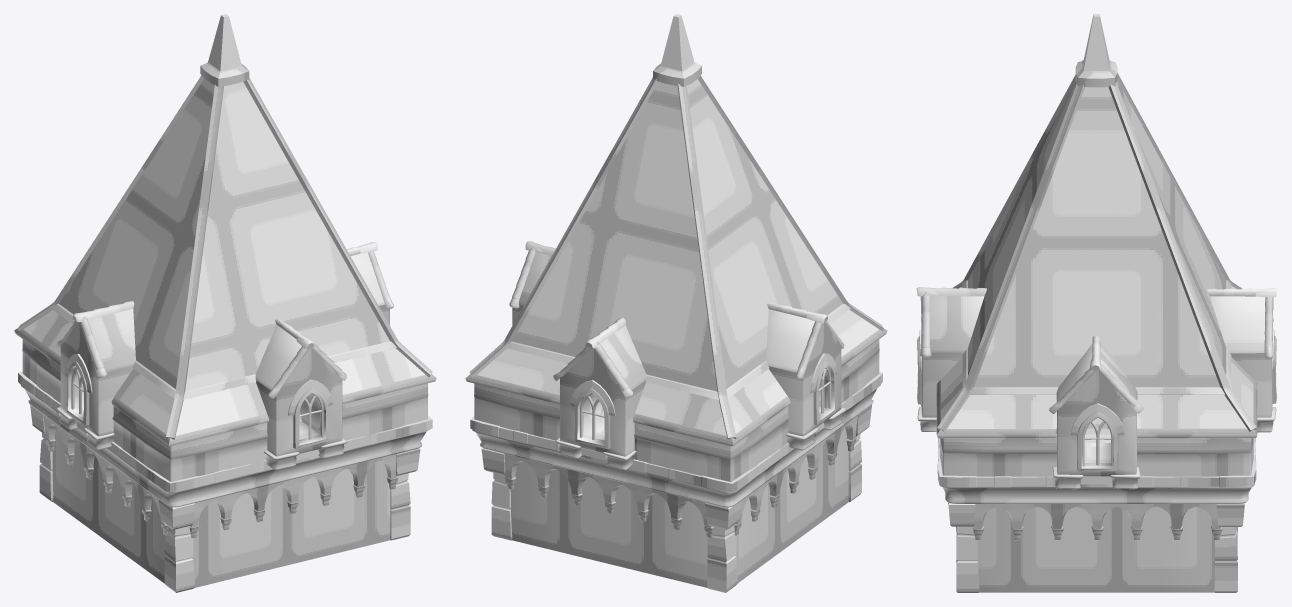
File: SM_TowerE_Top_02.fbx
3 views of the same model, side by side, from view 1: azimuth 30°, elevation 25°; view 2: azimuth 150°, elevation 25°; view 3: azimuth 270°, elevation 25° (orthographic). The views are drawn at different scales.
Visible parts, largest first — view 1: SM_TowerE_Top_02_LOD0; view 2: SM_TowerE_Top_02_LOD0; view 3: SM_TowerE_Top_02_LOD0.
Boxes of the visible parts, x1=… form: SM_TowerE_Top_02_LOD0: x1=14, y1=14, x2=436, y2=592; SM_TowerE_Top_02_LOD0: x1=465, y1=14, x2=887, y2=592; SM_TowerE_Top_02_LOD0: x1=916, y1=14, x2=1277, y2=592.
Size of the model in its own units: 1308 by 1308 by 2087.
